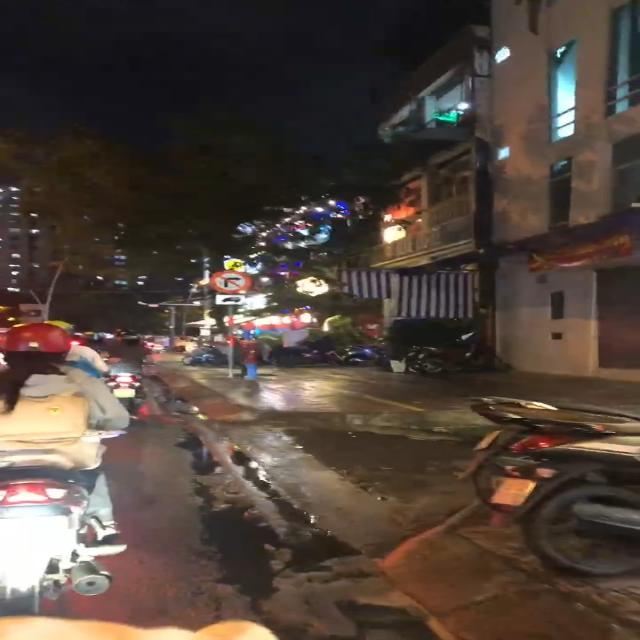Bien bao cam re phai: (207, 266, 254, 294)
